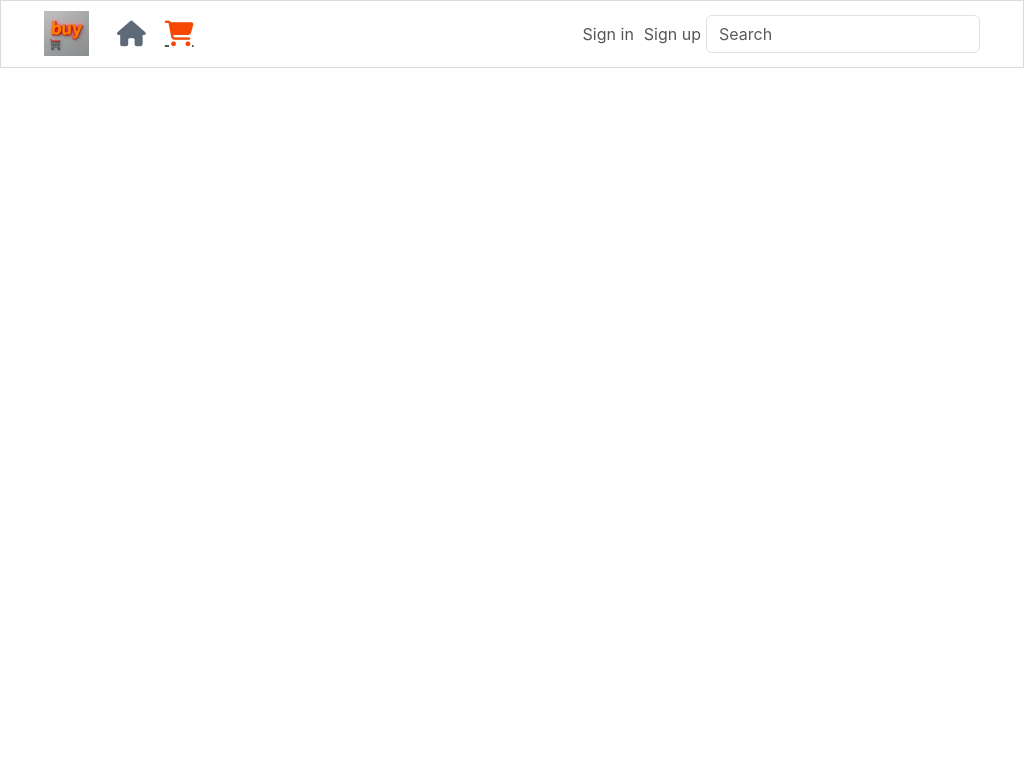
Test: Test NavBar › Test render sign up link and when click render sign up page
What coordinates should you click on to do the following:
click the link with test id "signup-link"
I would click on:
 (672, 34)
Its box is top-left (644, 24), bottom-right (701, 44).
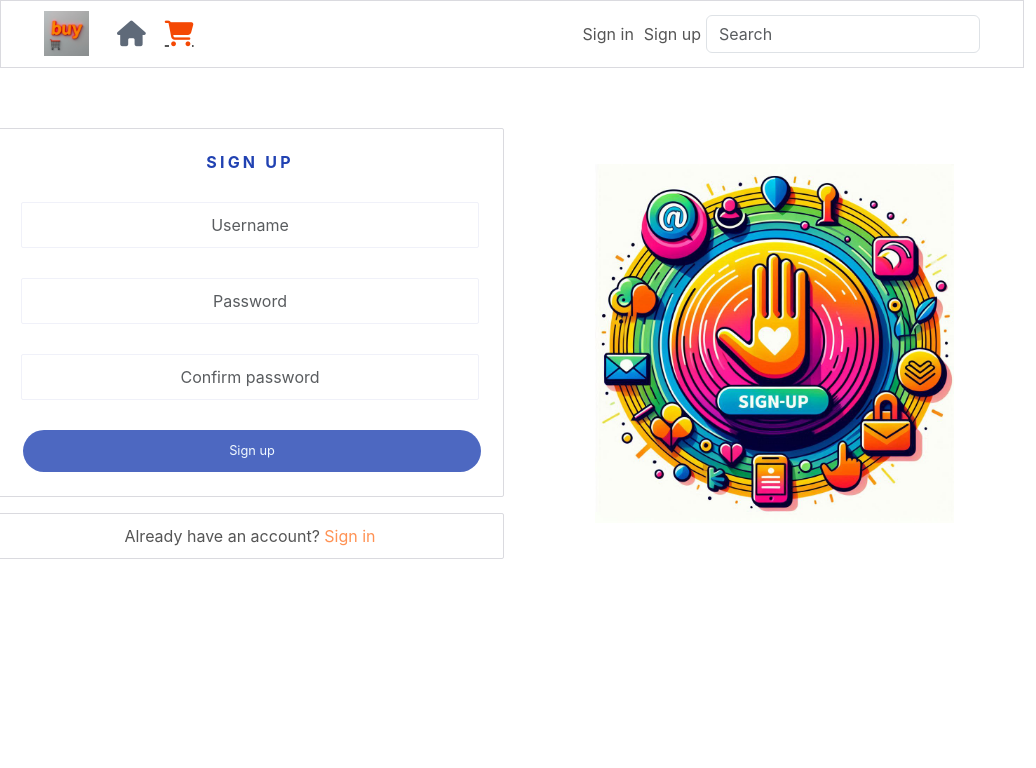
Result: the element with test id "signup-page" is shown
